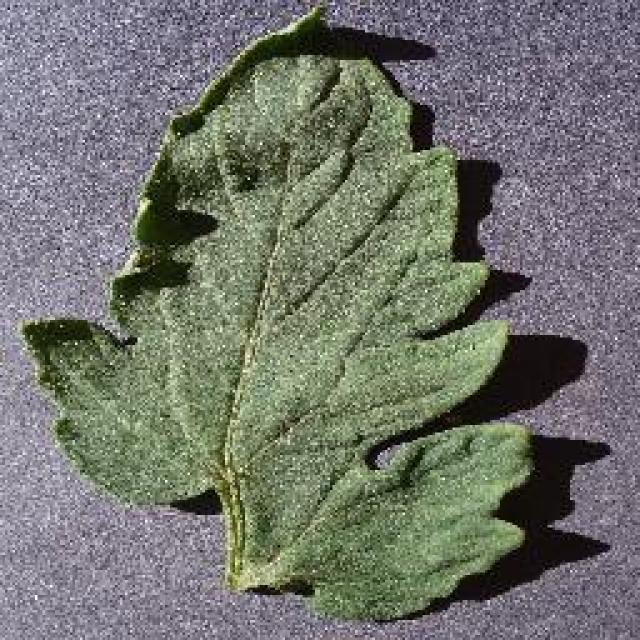Tomato healthy leaf: (30, 11, 535, 624)
